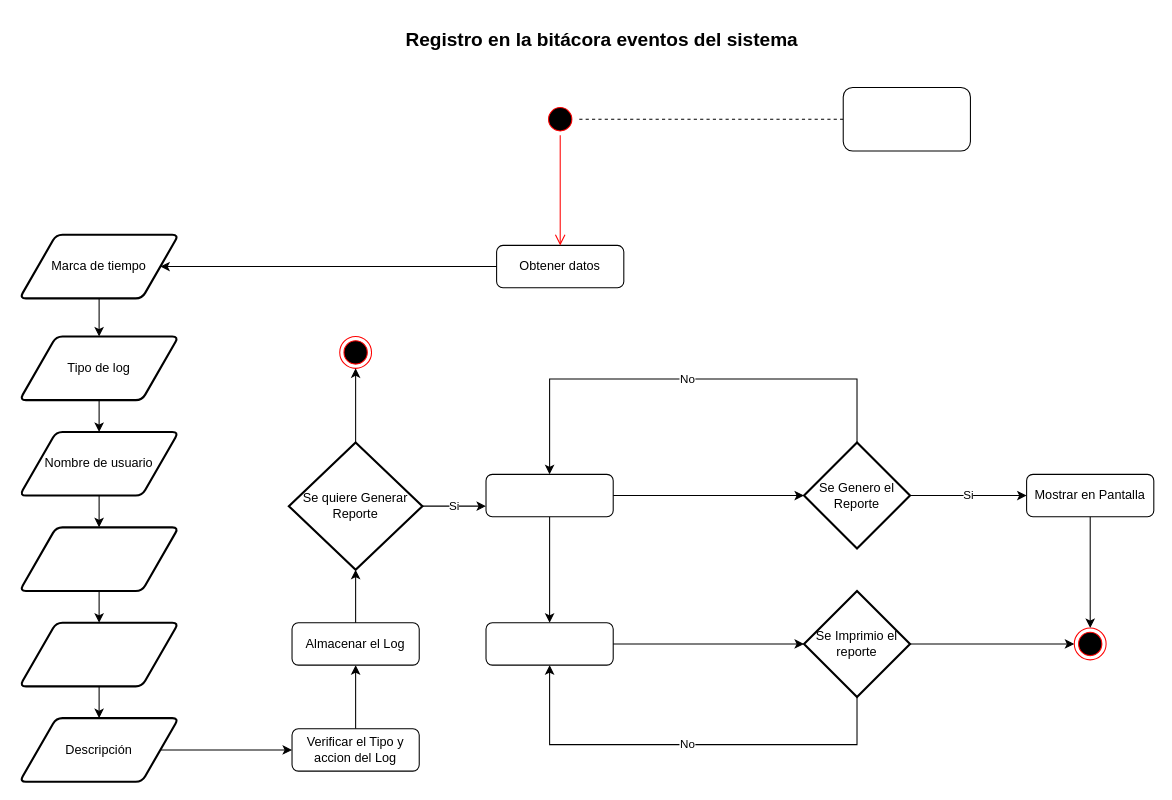
Some shapes in this 1172 by 800 pixel diagram are drawn without their labels. The shapes that lost their labels are listed below. From the top down, each one's centre as x and y in pixels, then its label:
(x=906, y=118): Este espacio representa el diseño de otro equipo de trabajo.
(x=549, y=495): Generar Reporte
(x=98, y=558): Rol del usuario
(x=98, y=654): Acción
(x=549, y=643): Crear Archivo de log
